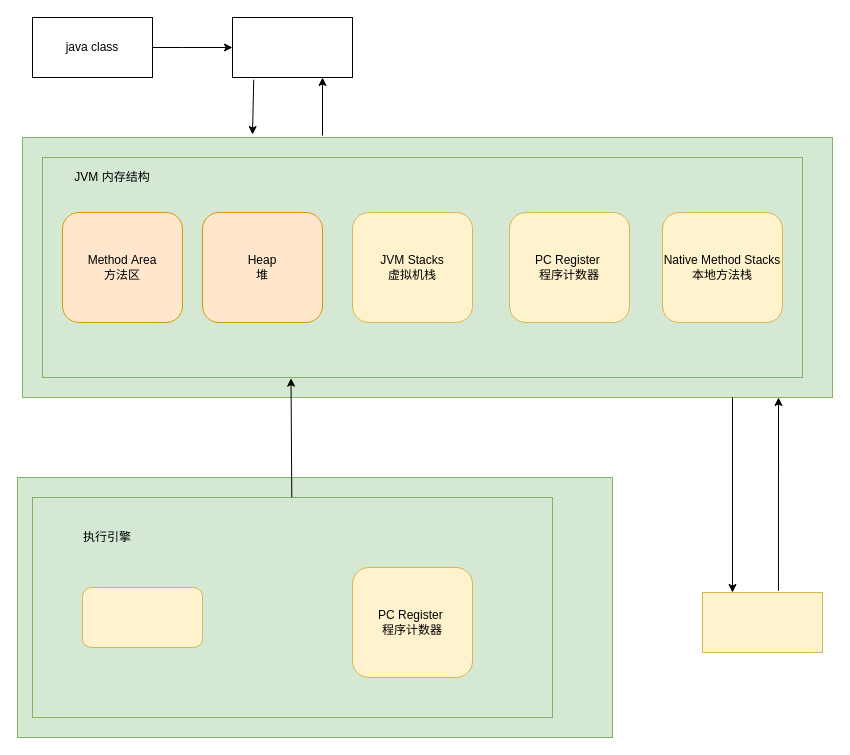
Some shapes in this 850 by 755 pixel diagram are drawn without their labels. Each missing label, with the centre of its shape:
"class load" belongs at point 292,47.
"本地方法接口" belongs at point 762,622.
